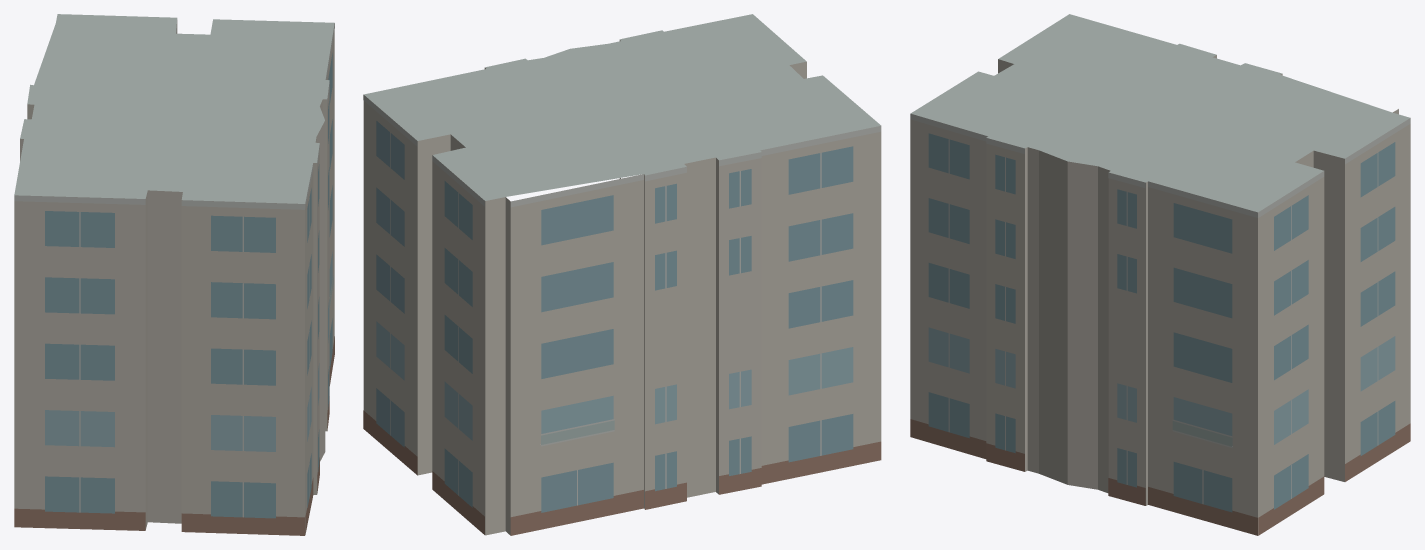
File: survey-upis-32679077.glb
3 views of the same model, side by side, from view 1: azimuth 30°, elevation 25°; view 2: azimuth 150°, elevation 25°; view 3: azimuth 270°, elevation 25° (orthographic). The views are drawn at different scales.
Visible parts, largest first — view 1: survey-upis-32679077.tmp; view 2: survey-upis-32679077.tmp; view 3: survey-upis-32679077.tmp.
Part boxes in pixels (x1,y1,x2,y2): survey-upis-32679077.tmp: (14,14,334,535); survey-upis-32679077.tmp: (363,14,881,535); survey-upis-32679077.tmp: (910,14,1410,535).
Bounding box in the file's own units: 18.03 × 13.7 × 19.21.
